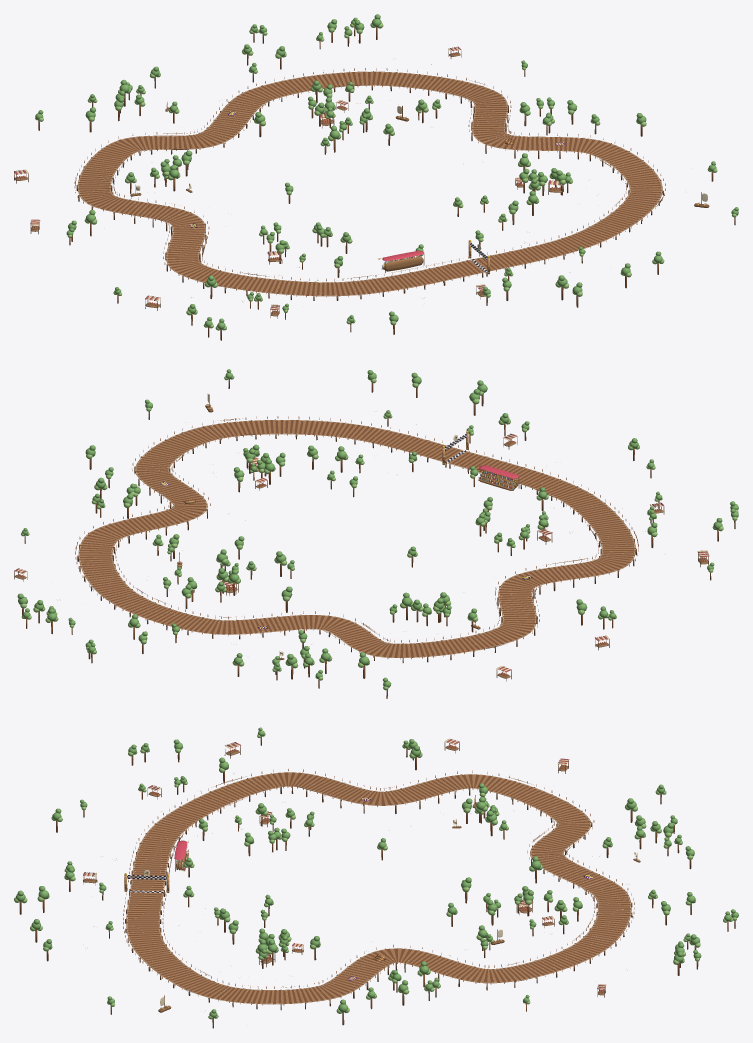
The model's file is carreras_pantano.glb.
The picture shows the model from 3 angles, top to bottom: view 1: azimuth 30°, elevation 25°; view 2: azimuth 150°, elevation 25°; view 3: azimuth 270°, elevation 25°; orthographic projection. The views are drawn at different scales.
Parts seen in each view (by area): view 1: pantano Madera | tablas puente oscuras -1 0, pantano Madera | tablas puente -1 0, pantano Madera | tablas puente oscuras 0 -1, pantano Madera | tablas puente 0 -1, pantano Madera | tablas puente 0 0, pantano Madera | tablas puente -1 -1, pantano Madera | tablas puente oscuras 0 0, pantano Madera | tablas puente oscuras -1 -1, pantano Tela | copa #7FB069 0 0, pantano Tela | copa #7FB069 0 -1, pantano Tela | copa #7FB069 -1 0, pantano Tela | copa #7FB069 -1 -1 (+5 smaller); view 2: pantano Madera | tablas puente oscuras -1 0, pantano Madera | tablas puente -1 0, pantano Madera | tablas puente 0 0, pantano Madera | tablas puente oscuras 0 0, pantano Madera | tablas puente oscuras 0 -1, pantano Madera | tablas puente 0 -1, pantano Madera | tablas puente -1 -1, pantano Madera | tablas puente oscuras -1 -1, pantano Tela | copa #7FB069 0 0, pantano Tela | copa #7FB069 -1 0, pantano Tela | copa #7FB069 0 -1, pantano Tela | copa #7FB069 -1 -1 (+6 smaller); view 3: pantano Madera | tablas puente oscuras -1 0, pantano Madera | tablas puente -1 0, pantano Madera | tablas puente oscuras 0 -1, pantano Madera | tablas puente 0 -1, pantano Madera | tablas puente 0 0, pantano Madera | tablas puente oscuras 0 0, pantano Madera | tablas puente -1 -1, pantano Madera | tablas puente oscuras -1 -1, pantano Tela | copa #7FB069 0 0, pantano Tela | copa #7FB069 -1 0, pantano Tela | copa #7FB069 0 -1, pantano Tela | copa #7FB069 -1 -1 (+5 smaller).
Boxes of the visible parts, x1,y1,x2,y2 form: pantano Madera | tablas puente oscuras -1 0: [77, 96, 264, 230]; pantano Madera | tablas puente -1 0: [77, 97, 263, 229]; pantano Madera | tablas puente oscuras 0 -1: [474, 137, 662, 270]; pantano Madera | tablas puente 0 -1: [474, 137, 662, 271]; pantano Madera | tablas puente 0 0: [238, 71, 545, 150]; pantano Madera | tablas puente -1 -1: [166, 230, 484, 296]; pantano Madera | tablas puente oscuras 0 0: [239, 71, 543, 150]; pantano Madera | tablas puente oscuras -1 -1: [166, 231, 483, 296]; pantano Tela | copa #7FB069 0 0: [243, 14, 599, 145]; pantano Tela | copa #7FB069 0 -1: [454, 113, 738, 294]; pantano Tela | copa #7FB069 -1 0: [35, 66, 293, 235]; pantano Tela | copa #7FB069 -1 -1: [114, 222, 511, 329]; pantano Madera | tablas puente oscuras -1 0: [222, 571, 546, 657]; pantano Madera | tablas puente -1 0: [225, 571, 544, 657]; pantano Madera | tablas puente 0 0: [78, 485, 224, 634]; pantano Madera | tablas puente oscuras 0 0: [78, 486, 222, 634]; pantano Madera | tablas puente oscuras 0 -1: [135, 420, 462, 492]; pantano Madera | tablas puente 0 -1: [135, 420, 462, 491]; pantano Madera | tablas puente -1 -1: [448, 451, 635, 583]; pantano Madera | tablas puente oscuras -1 -1: [447, 452, 635, 583]; pantano Tela | copa #7FB069 0 0: [17, 467, 294, 652]; pantano Tela | copa #7FB069 -1 0: [234, 546, 615, 687]; pantano Tela | copa #7FB069 0 -1: [85, 369, 487, 485]; pantano Tela | copa #7FB069 -1 -1: [470, 413, 738, 570]; pantano Madera | tablas puente oscuras -1 0: [351, 774, 622, 894]; pantano Madera | tablas puente -1 0: [353, 774, 620, 893]; pantano Madera | tablas puente oscuras 0 -1: [126, 892, 373, 1004]; pantano Madera | tablas puente 0 -1: [126, 892, 372, 1004]; pantano Madera | tablas puente 0 0: [345, 888, 631, 983]; pantano Madera | tablas puente oscuras 0 0: [346, 889, 631, 983]; pantano Madera | tablas puente -1 -1: [130, 772, 366, 891]; pantano Madera | tablas puente oscuras -1 -1: [130, 772, 365, 891]; pantano Tela | copa #7FB069 0 0: [367, 877, 738, 1003]; pantano Tela | copa #7FB069 -1 0: [378, 739, 694, 869]; pantano Tela | copa #7FB069 0 -1: [16, 882, 347, 1017]; pantano Tela | copa #7FB069 -1 -1: [52, 727, 314, 879].
Size of what is drawn, in the model's own units: 281 by 12.27 by 301.
